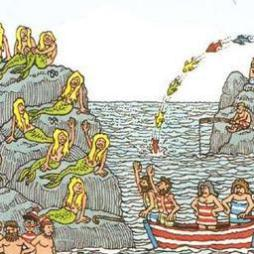wally: (19, 204, 41, 242)
